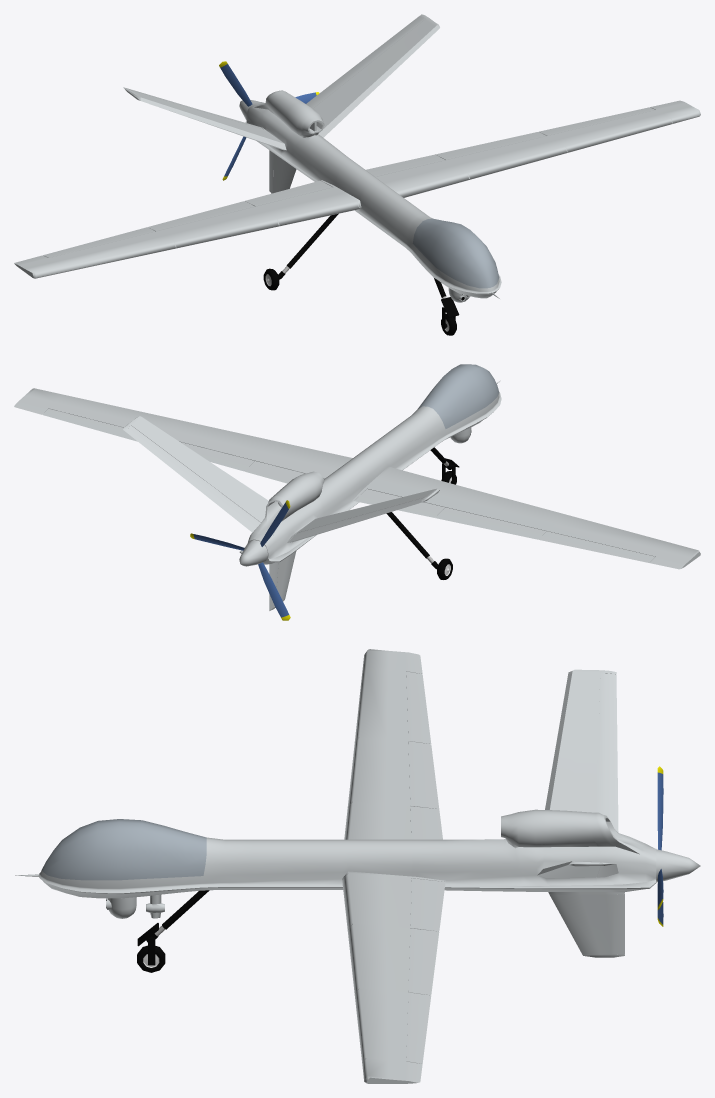
3 views of the same model, one above another, from view 1: azimuth 30°, elevation 25°; view 2: azimuth 150°, elevation 25°; view 3: azimuth 270°, elevation 25° (orthographic). The views are drawn at different scales.
Parts seen in each view (by area): view 1: 机身, 脚架, 旋翼001, 轮; view 2: 机身, 旋翼001, 脚架, objpCylinder3; view 3: 机身, objpCylinder3, 脚架, 旋翼001.
Part boxes in pixels (bbox=[...]): 机身: bbox=[14, 14, 700, 298]; 脚架: bbox=[278, 213, 459, 329]; 旋翼001: bbox=[219, 61, 319, 180]; 轮: bbox=[263, 268, 456, 335]; 机身: bbox=[14, 364, 700, 610]; 旋翼001: bbox=[190, 500, 290, 620]; 脚架: bbox=[386, 447, 459, 569]; objpCylinder3: bbox=[239, 540, 268, 566]; 机身: bbox=[38, 649, 656, 1083]; objpCylinder3: bbox=[656, 849, 700, 882]; 脚架: bbox=[137, 890, 209, 965]; 旋翼001: bbox=[657, 766, 663, 926].
Bounding box in the file's own units: 14.68 × 3.3 × 9.94.
